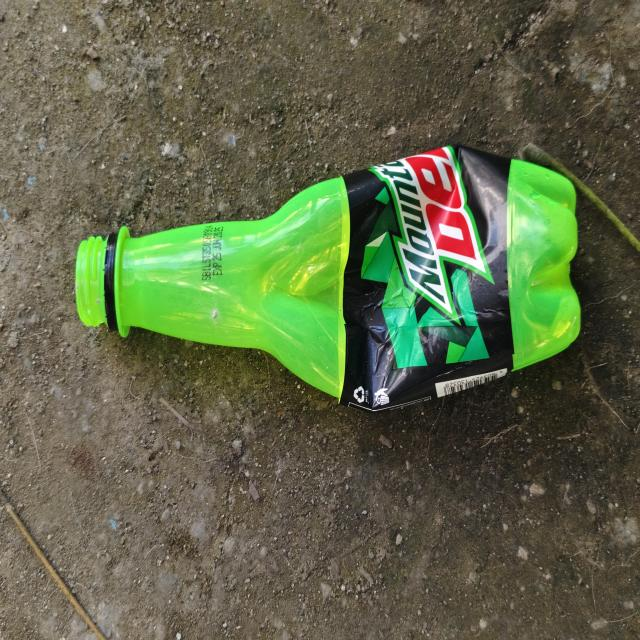Bottle: (75, 145, 580, 411)
